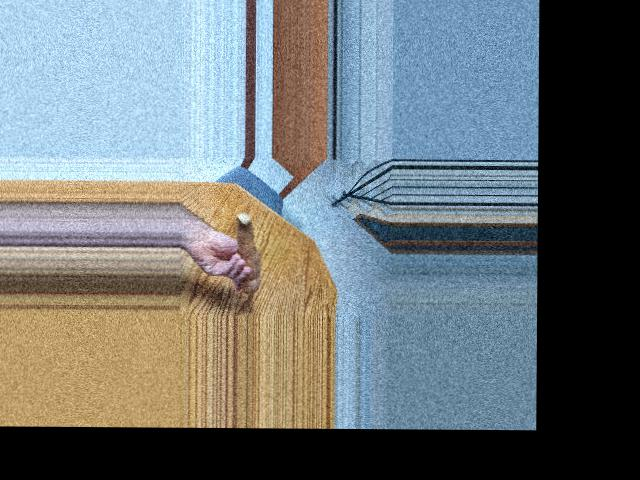sweet_potato: (228, 215, 263, 294)
